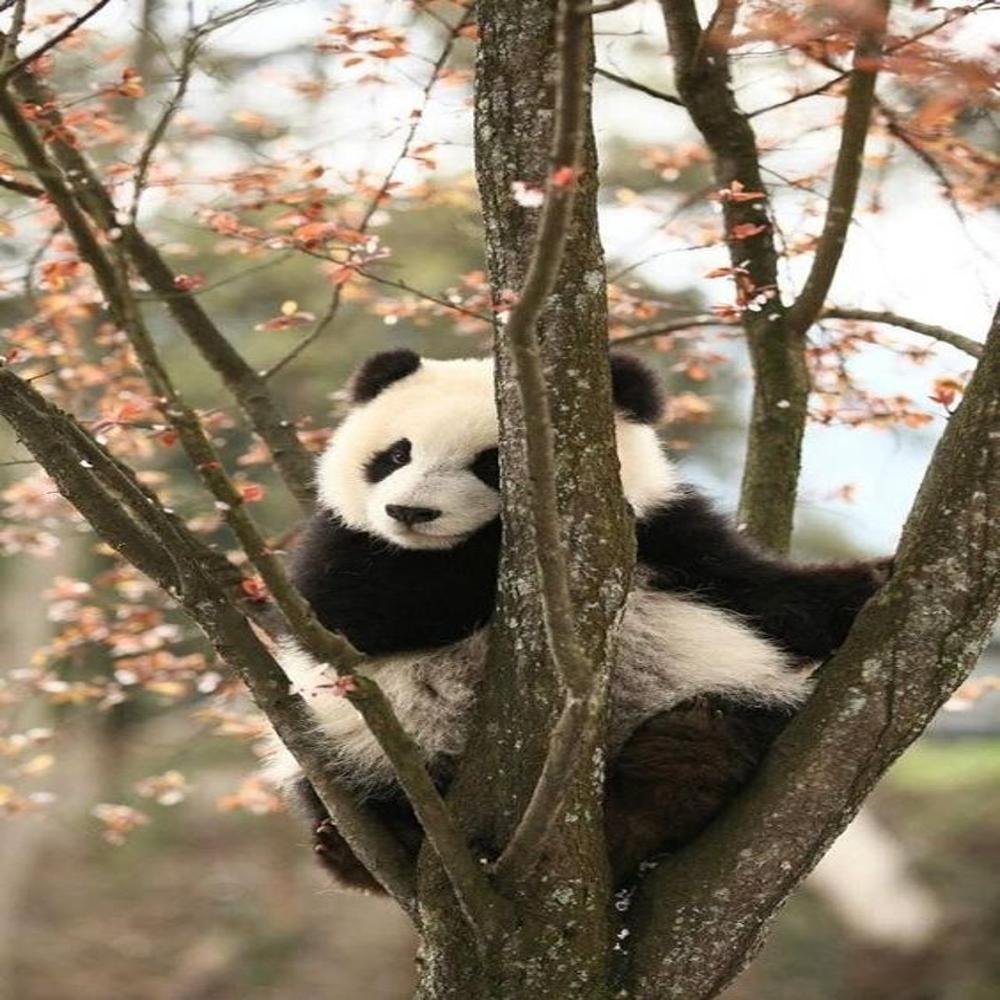panda: (282, 330, 910, 883)
